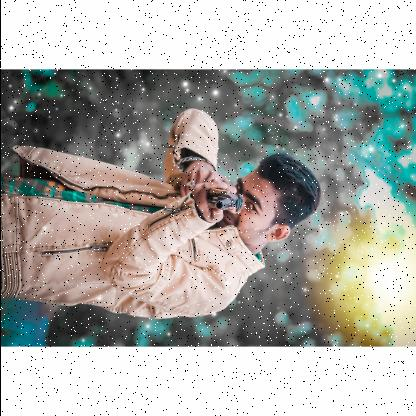rifle: (204, 186, 244, 214)
